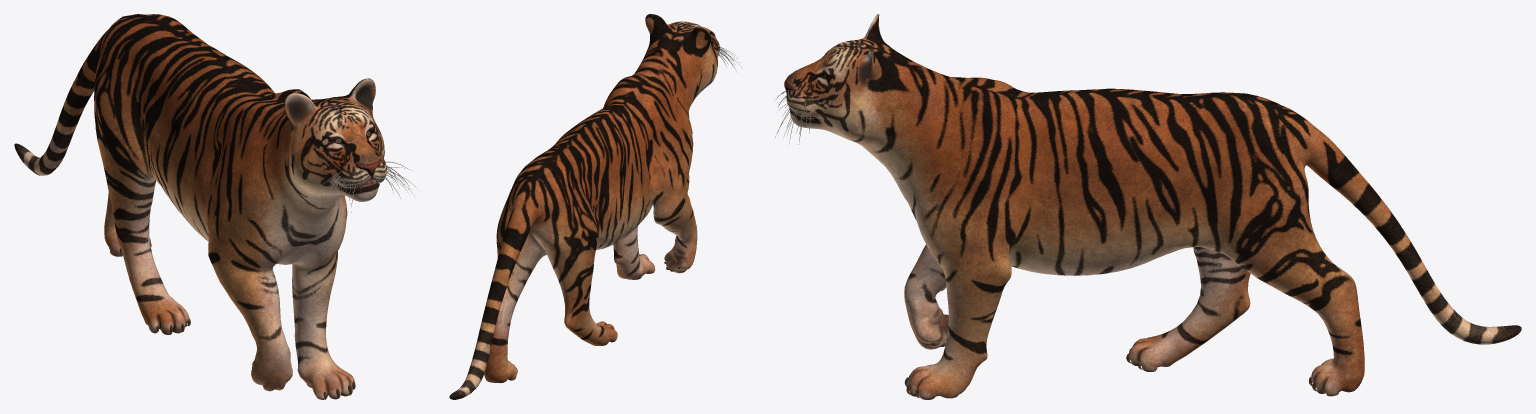
The picture shows the model from 3 angles, left to right: view 1: azimuth 30°, elevation 25°; view 2: azimuth 150°, elevation 25°; view 3: azimuth 270°, elevation 25°; orthographic projection. The views are drawn at different scales.
Parts seen in each view (by area): view 1: tiger.1_1; view 2: tiger.1_1; view 3: tiger.1_1.
Boxes of the visible parts, x1,y1,x2,y2 form: tiger.1_1: (14,14,415,399); tiger.1_1: (449,14,742,399); tiger.1_1: (774,14,1521,399).
Bounding box in the file's own units: 0.6588 × 1.8 × 3.53.
1 material, 1 textured.
